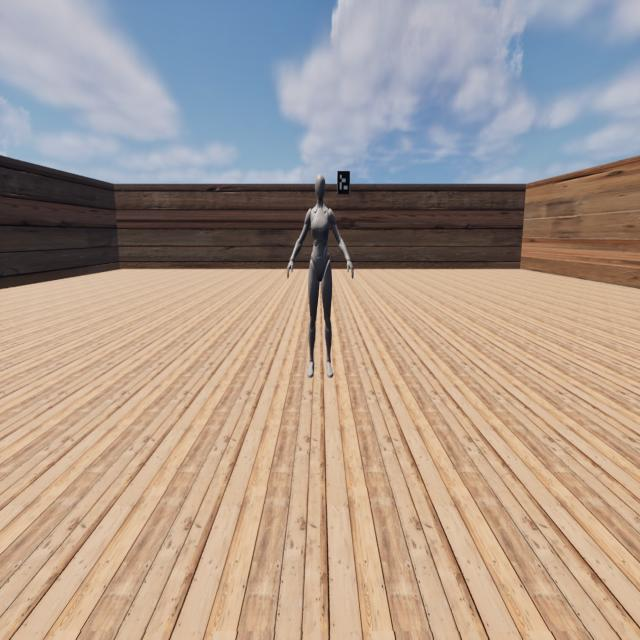aruco: (337, 170, 350, 194)
hip: (309, 258, 331, 270)
